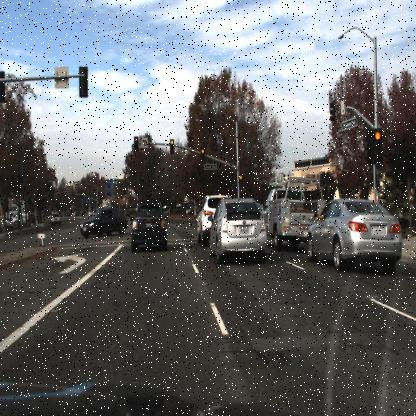car: (304, 195, 403, 274), (263, 169, 326, 251), (206, 191, 268, 265), (264, 189, 319, 247), (128, 203, 167, 254), (78, 204, 132, 238), (195, 190, 225, 246), (130, 203, 166, 249), (82, 206, 128, 240), (196, 193, 216, 245), (50, 211, 61, 225)
trafficLight: (238, 168, 244, 186)
trafficLight-Red: (367, 126, 383, 168), (372, 127, 384, 166), (237, 171, 246, 194), (169, 137, 176, 156), (168, 136, 174, 158), (200, 146, 206, 166), (199, 145, 206, 162)
trafficLight-RedLeft: (132, 134, 140, 156), (134, 135, 140, 156)
